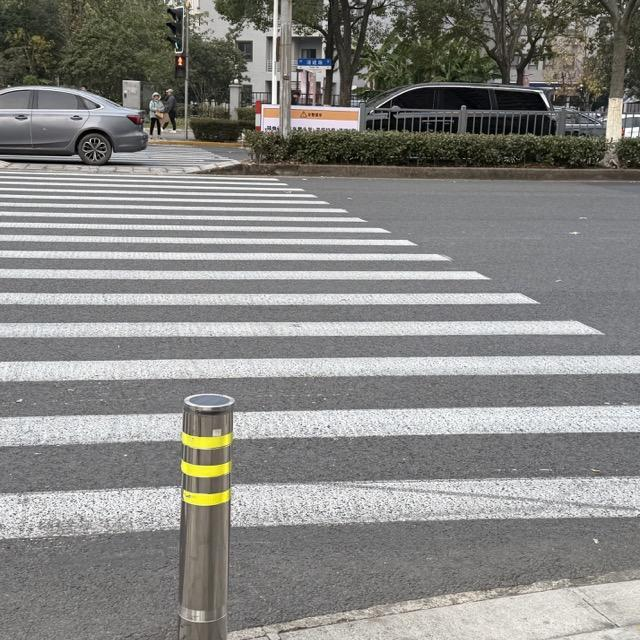curb: (195, 163, 639, 181), (151, 140, 239, 146)
